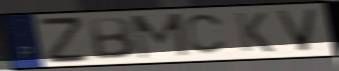B: (87, 15, 138, 61)
C: (183, 12, 229, 57)
K: (233, 11, 276, 54)
M: (130, 11, 192, 61)
V: (272, 8, 321, 53)
Z: (36, 16, 94, 66)
